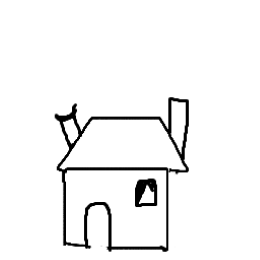bottom_placed_house: (0, 0, 258, 257)
chimney: (148, 89, 199, 154), (51, 94, 94, 156)
door: (74, 195, 116, 255)
open_window: (129, 175, 164, 217)
roof: (44, 108, 205, 177)
wall: (57, 160, 176, 259)
